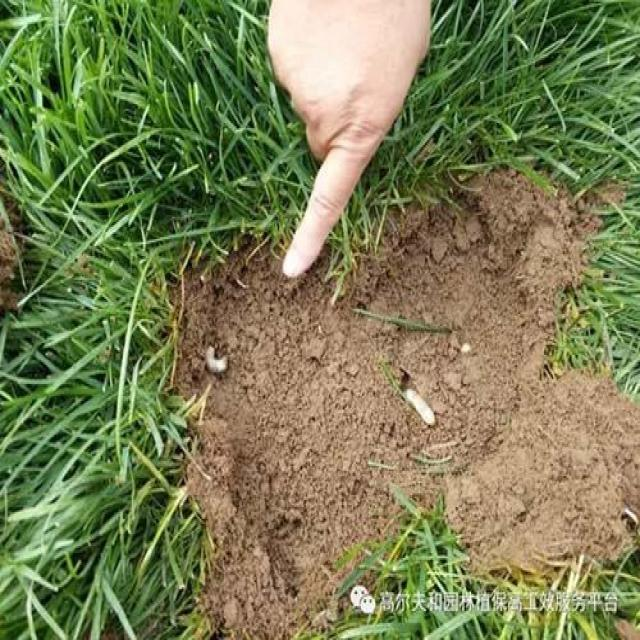grub: (207, 333, 238, 386), (404, 390, 436, 431)
